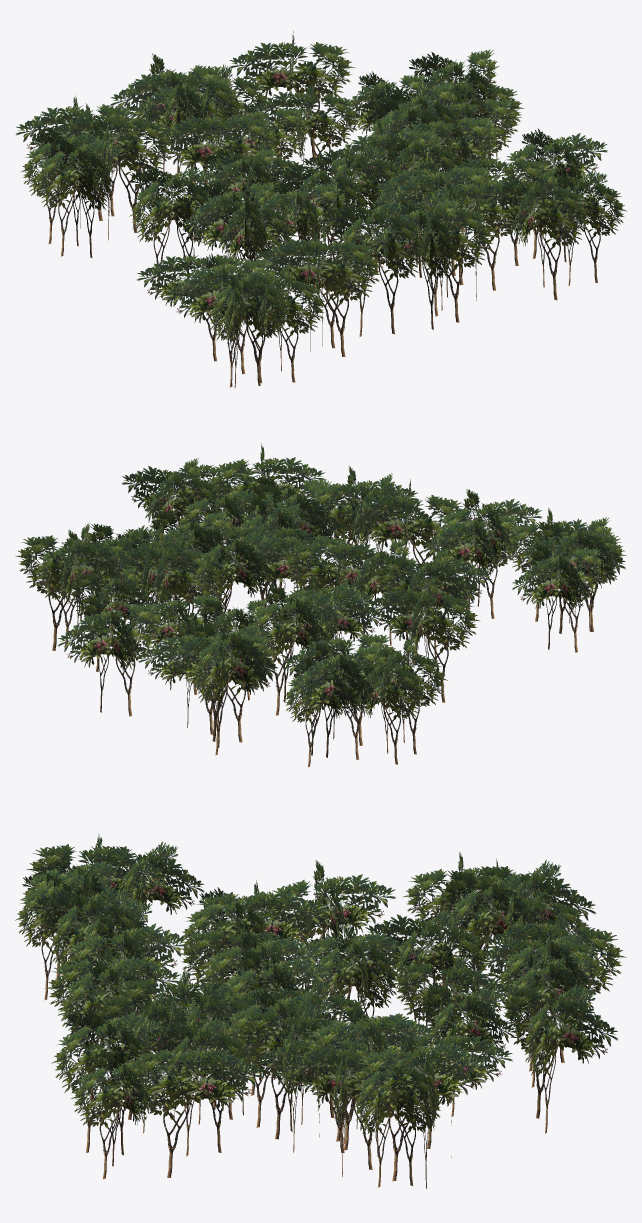
File: tropical_plant.glb
The picture shows the model from 3 angles, top to bottom: view 1: azimuth 30°, elevation 25°; view 2: azimuth 150°, elevation 25°; view 3: azimuth 270°, elevation 25°; orthographic projection. The views are drawn at different scales.
Parts seen in each view (by area): view 1: red-baron-grass-ornamental-Va7qqJC-600.001_red-baron-grass-o, red-baron-grass-ornamental-Va7qqJC-600_red-baron-grass-ornam; view 2: red-baron-grass-ornamental-Va7qqJC-600_red-baron-grass-ornam, red-baron-grass-ornamental-Va7qqJC-600.001_red-baron-grass-o; view 3: red-baron-grass-ornamental-Va7qqJC-600_red-baron-grass-ornam, red-baron-grass-ornamental-Va7qqJC-600.001_red-baron-grass-o.
Boxes of the visible parts, <box> form: red-baron-grass-ornamental-Va7qqJC-600.001_red-baron-grass-o: <box>15,42,626,385</box>; red-baron-grass-ornamental-Va7qqJC-600_red-baron-grass-ornam: <box>20,31,607,388</box>; red-baron-grass-ornamental-Va7qqJC-600_red-baron-grass-ornam: <box>58,443,626,764</box>; red-baron-grass-ornamental-Va7qqJC-600.001_red-baron-grass-o: <box>15,457,625,767</box>; red-baron-grass-ornamental-Va7qqJC-600_red-baron-grass-ornam: <box>15,844,618,1187</box>; red-baron-grass-ornamental-Va7qqJC-600.001_red-baron-grass-o: <box>20,833,626,1188</box>.
Size of the model in its own units: 4.91 by 1.17 by 4.82.
1 material, 1 textured.
